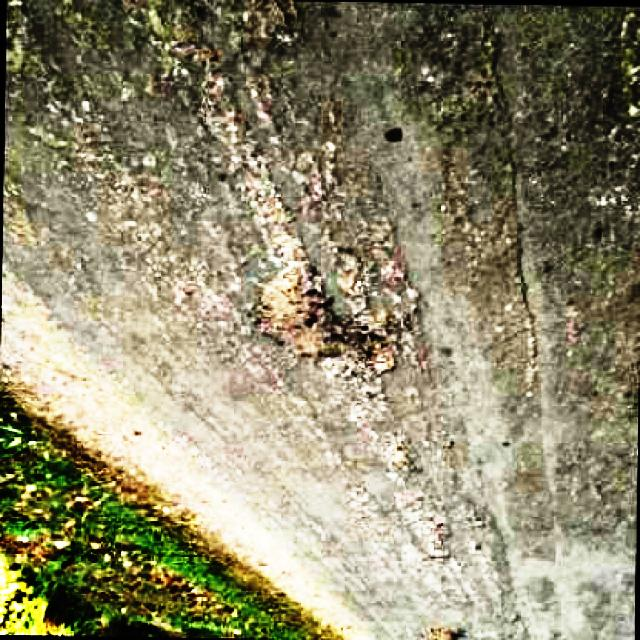pothole: (252, 246, 400, 379), (392, 440, 454, 565)
